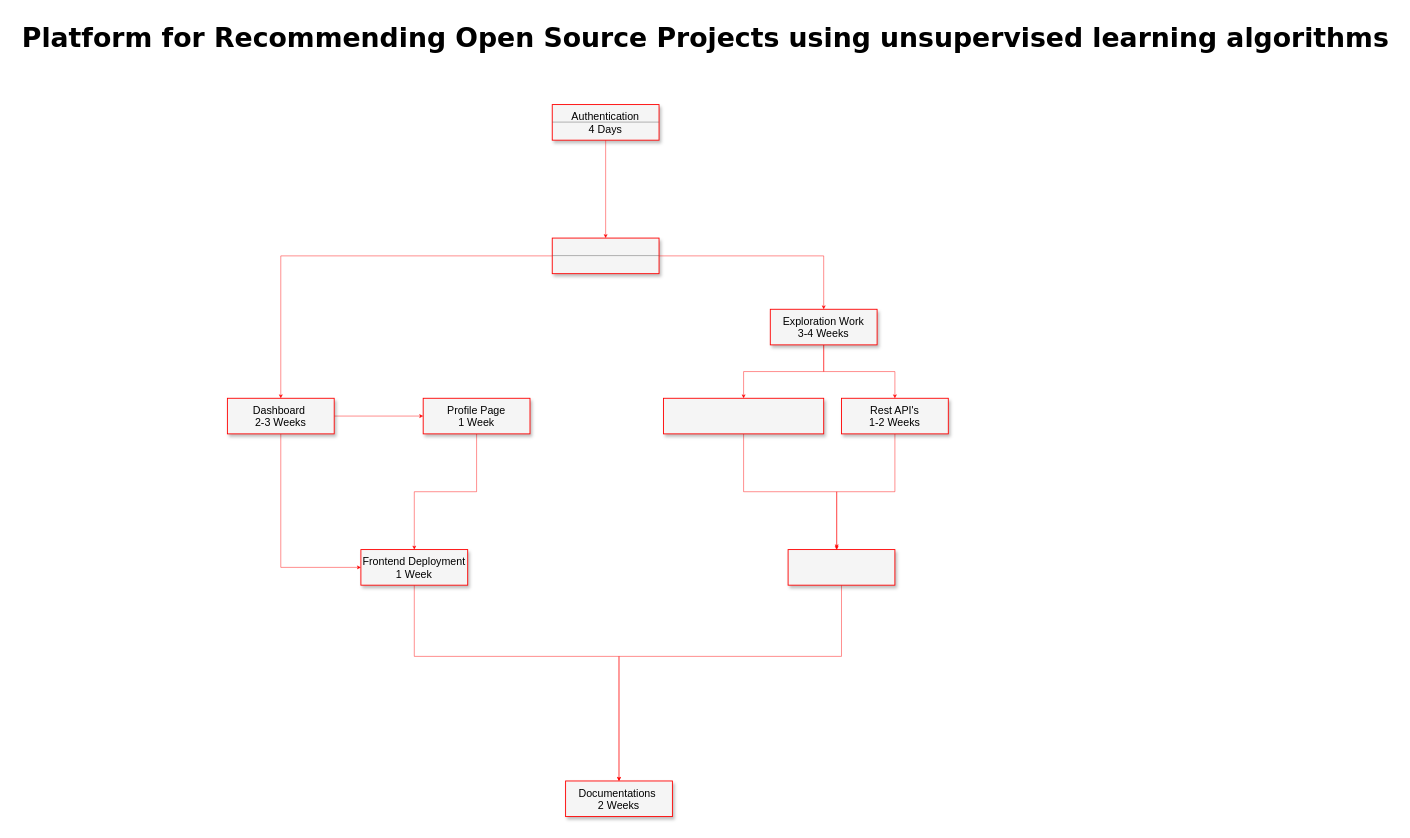
Image size: 1410x838. Some labels were removed from this diagram. The shapes that lost their labels are listed below. From the top down, each one's centre as x and y in pixels, then its label:
the point at 606,257: Survey Form 2 Days
the point at 744,417: Recommendation Model 4 Weeks
the point at 842,568: Model Deployment 1 Week
